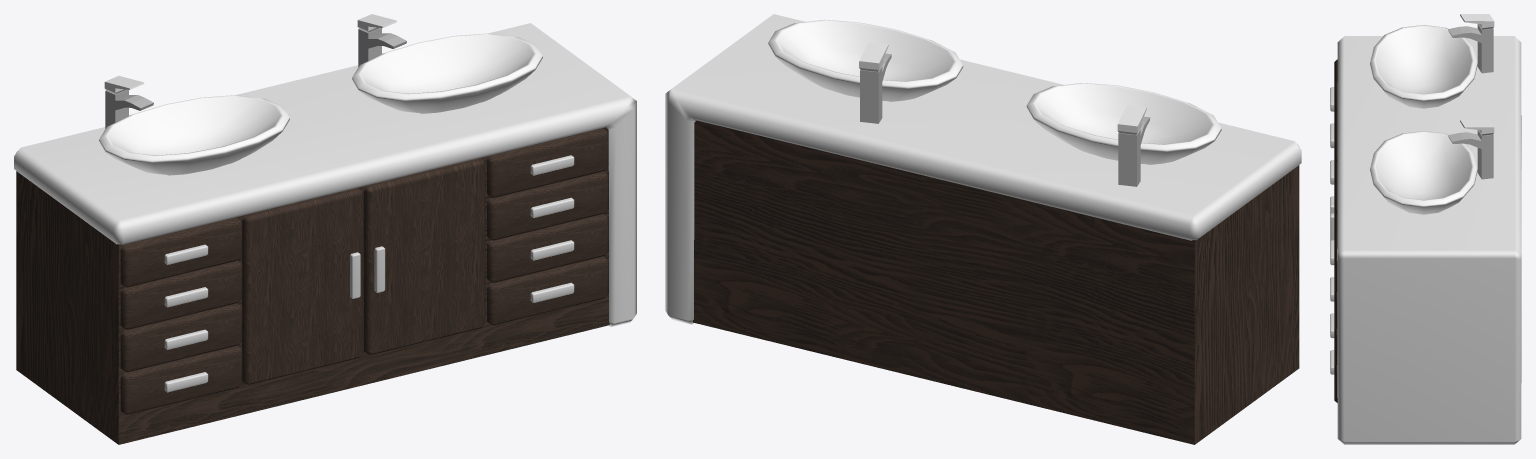
File: bathroom_029.fbx
3 views of the same model, side by side, from view 1: azimuth 30°, elevation 25°; view 2: azimuth 150°, elevation 25°; view 3: azimuth 270°, elevation 25° (orthographic). The views are drawn at different scales.
Visible parts, largest first — view 1: bathroom_029; view 2: bathroom_029; view 3: bathroom_029.
Boxes of the visible parts, x1,y1,x2,y2 form: bathroom_029: [14, 14, 636, 444]; bathroom_029: [665, 14, 1301, 444]; bathroom_029: [1330, 14, 1521, 444].
Size of the model in its own units: 231 by 85.35 by 123.
